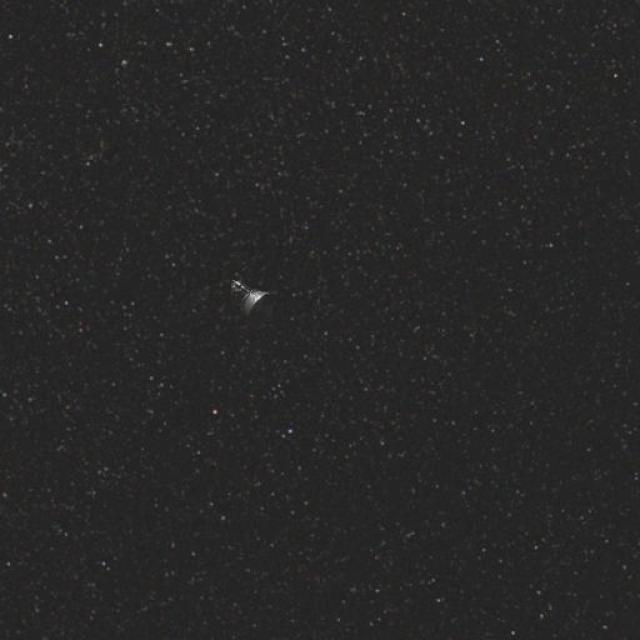debris: (210, 255, 286, 338)
